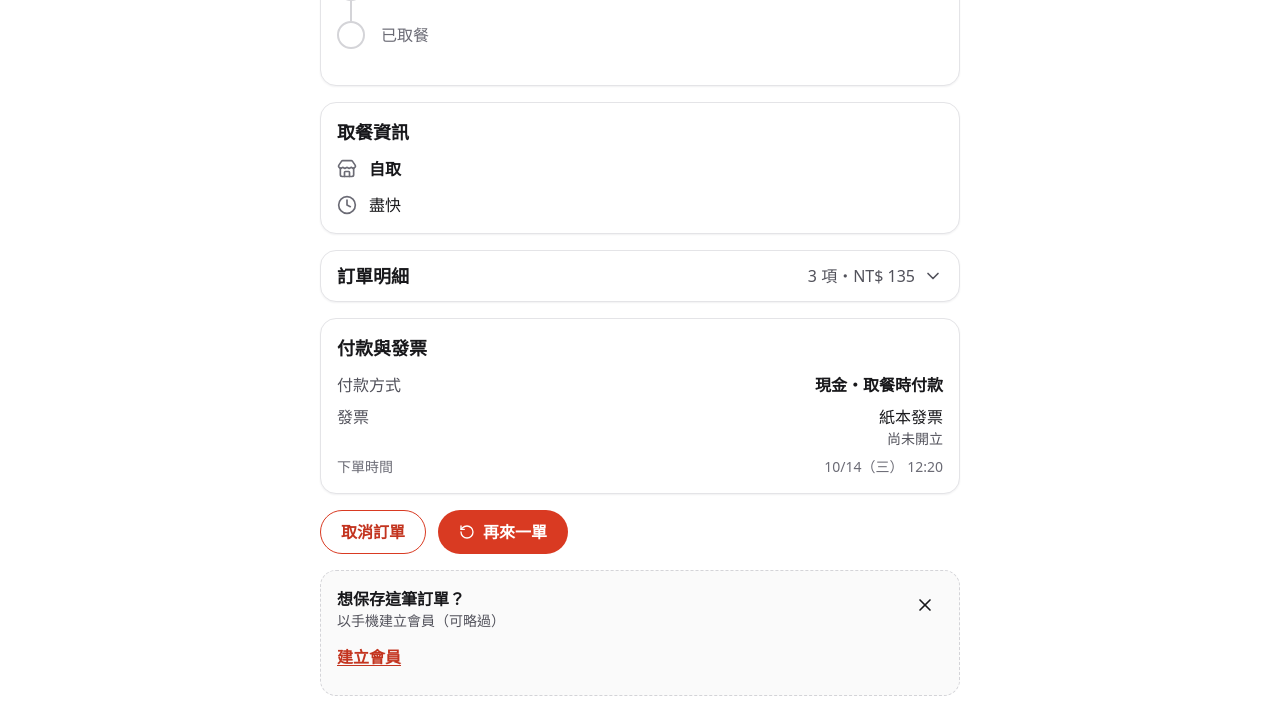
Test: OrderPage：再來一單 › 全部無法加入：提示並不改動購物車
The image size is (1280, 720).
(page scrolled)
What coordinates should you click on to do the following:
click the button "再來一單"
I would click on:
 (503, 532)
Its box is [438, 510, 568, 554].
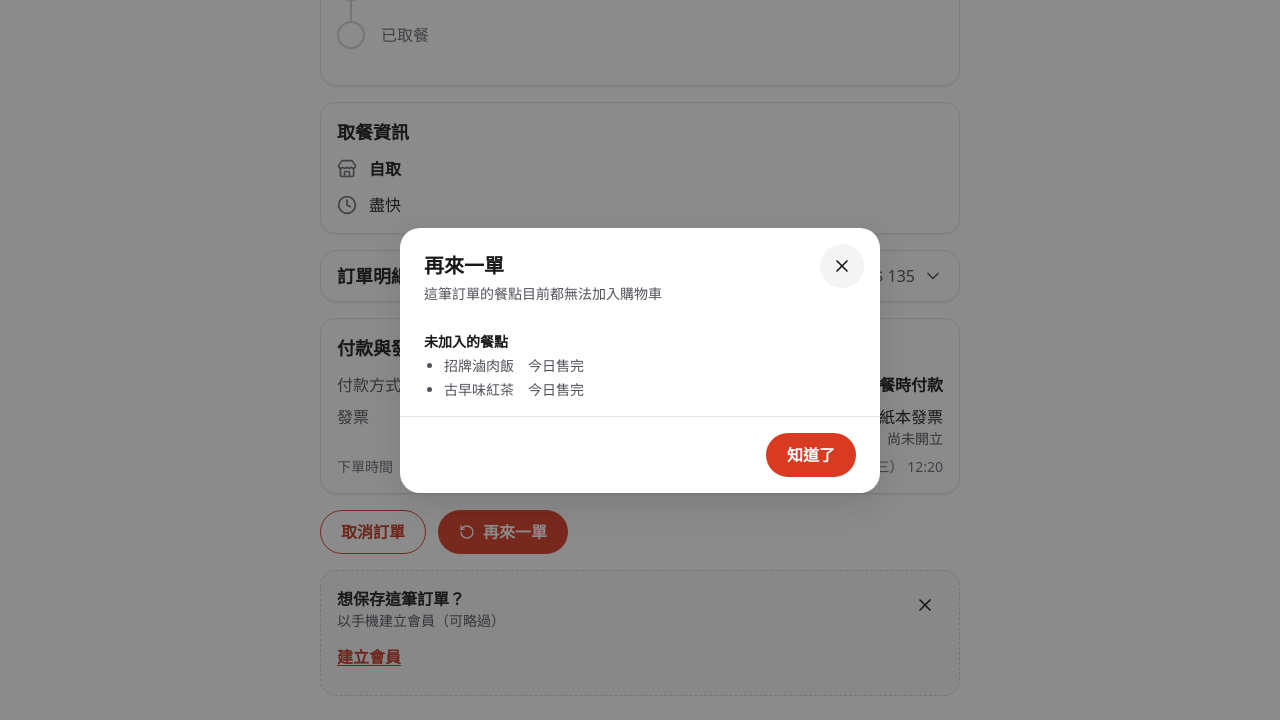
Check: the text "這筆訂單的餐點目前都無法加入購物車" is shown, box [424, 284, 662, 302]
Check: the list item "招牌滷肉飯 今日售完" is shown, box [444, 356, 584, 374]
